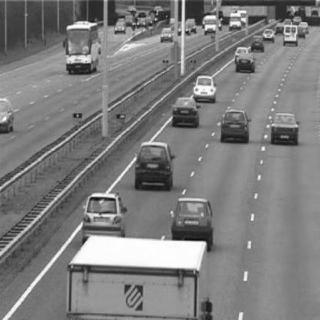other: (75, 227, 198, 311)
